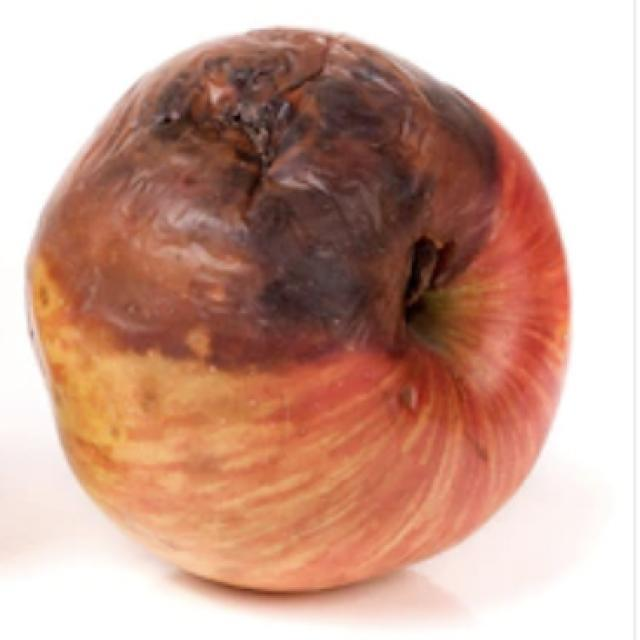Rotten: (33, 32, 572, 590)
